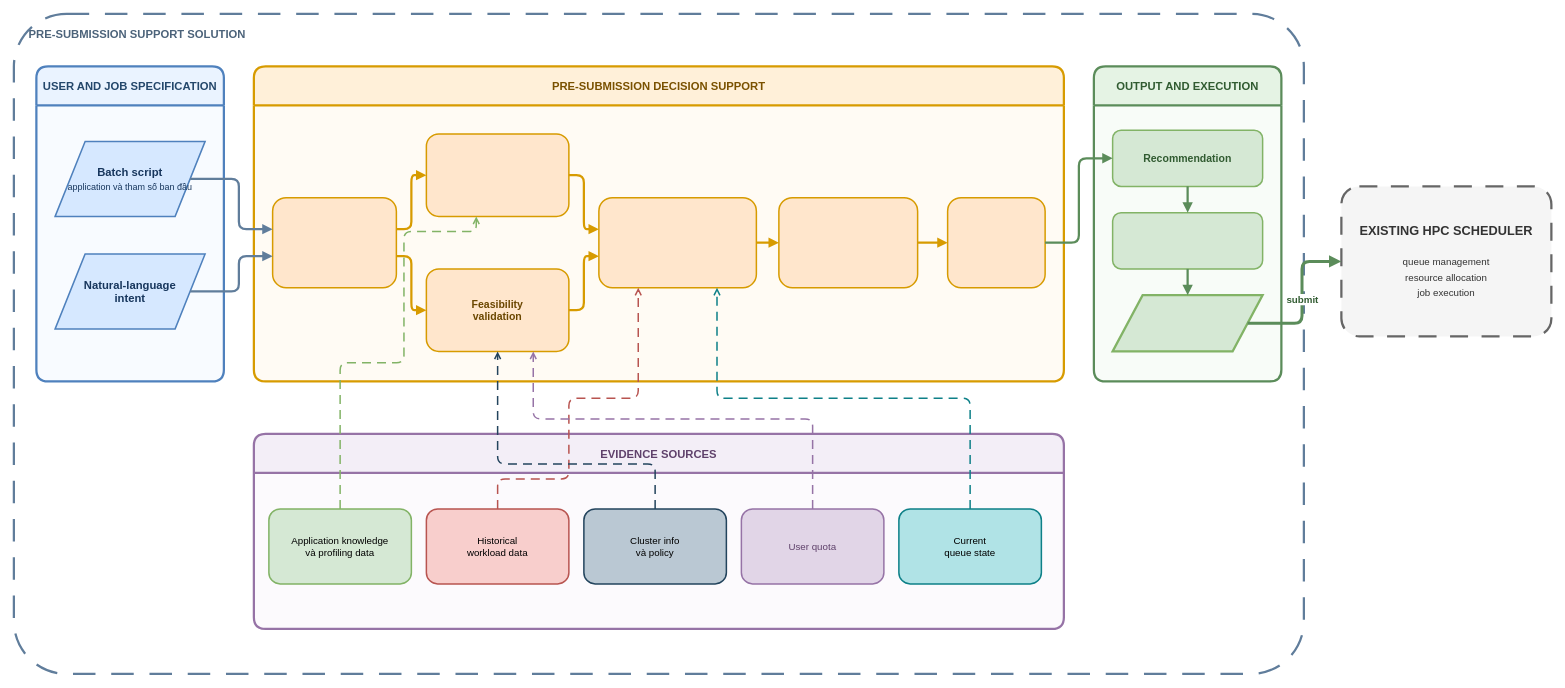
The diagram is 1565 pixels wide and 688 high, and some of its shapes have lost their labels. The shapes that lost their labels are listed below. From the top down, each one's centre as x and y in pixels, then its label:
(497,175): Candidate profile generation
(334,242): Intent understanding
(677,242): Performance and queue evaluation
(848,242): Intent-aware comparison
(996,242): Decision verification
(1187,240): Verifiable decision record
(1187,323): Approved batch script
